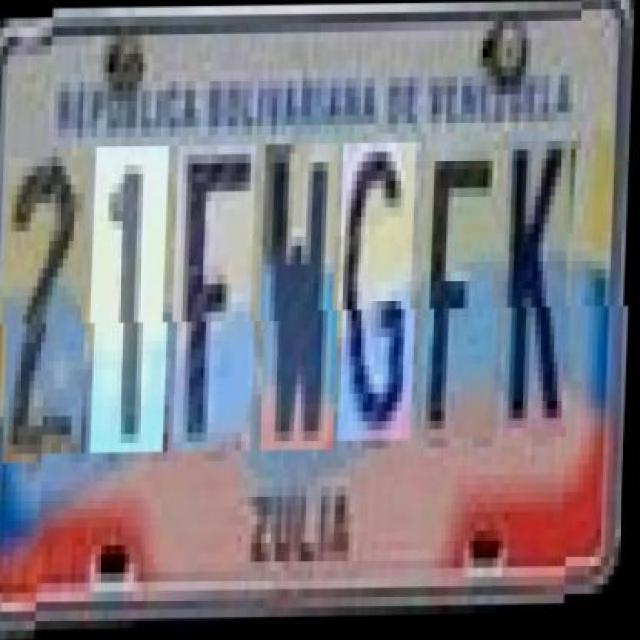1: (93, 146, 175, 454)
2: (6, 147, 92, 455)
f: (176, 145, 262, 453), (423, 142, 505, 441)
g: (342, 143, 423, 442)
k: (506, 132, 579, 439)
w: (264, 144, 344, 451)
